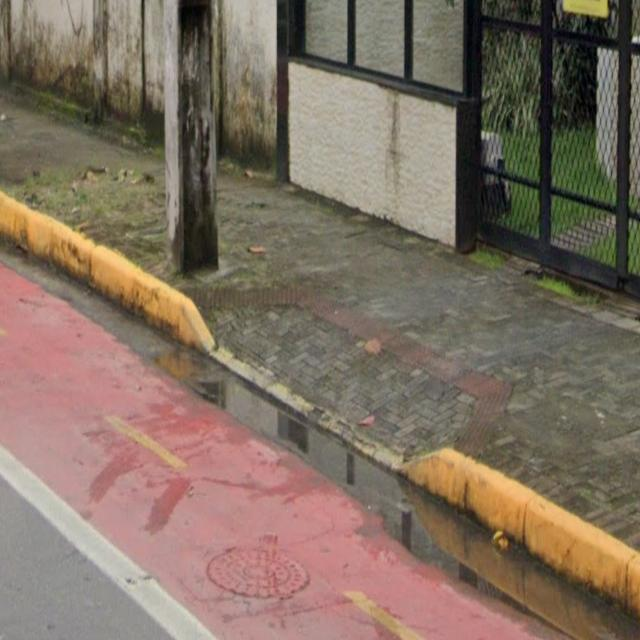Bueiro: (199, 526, 334, 620)
